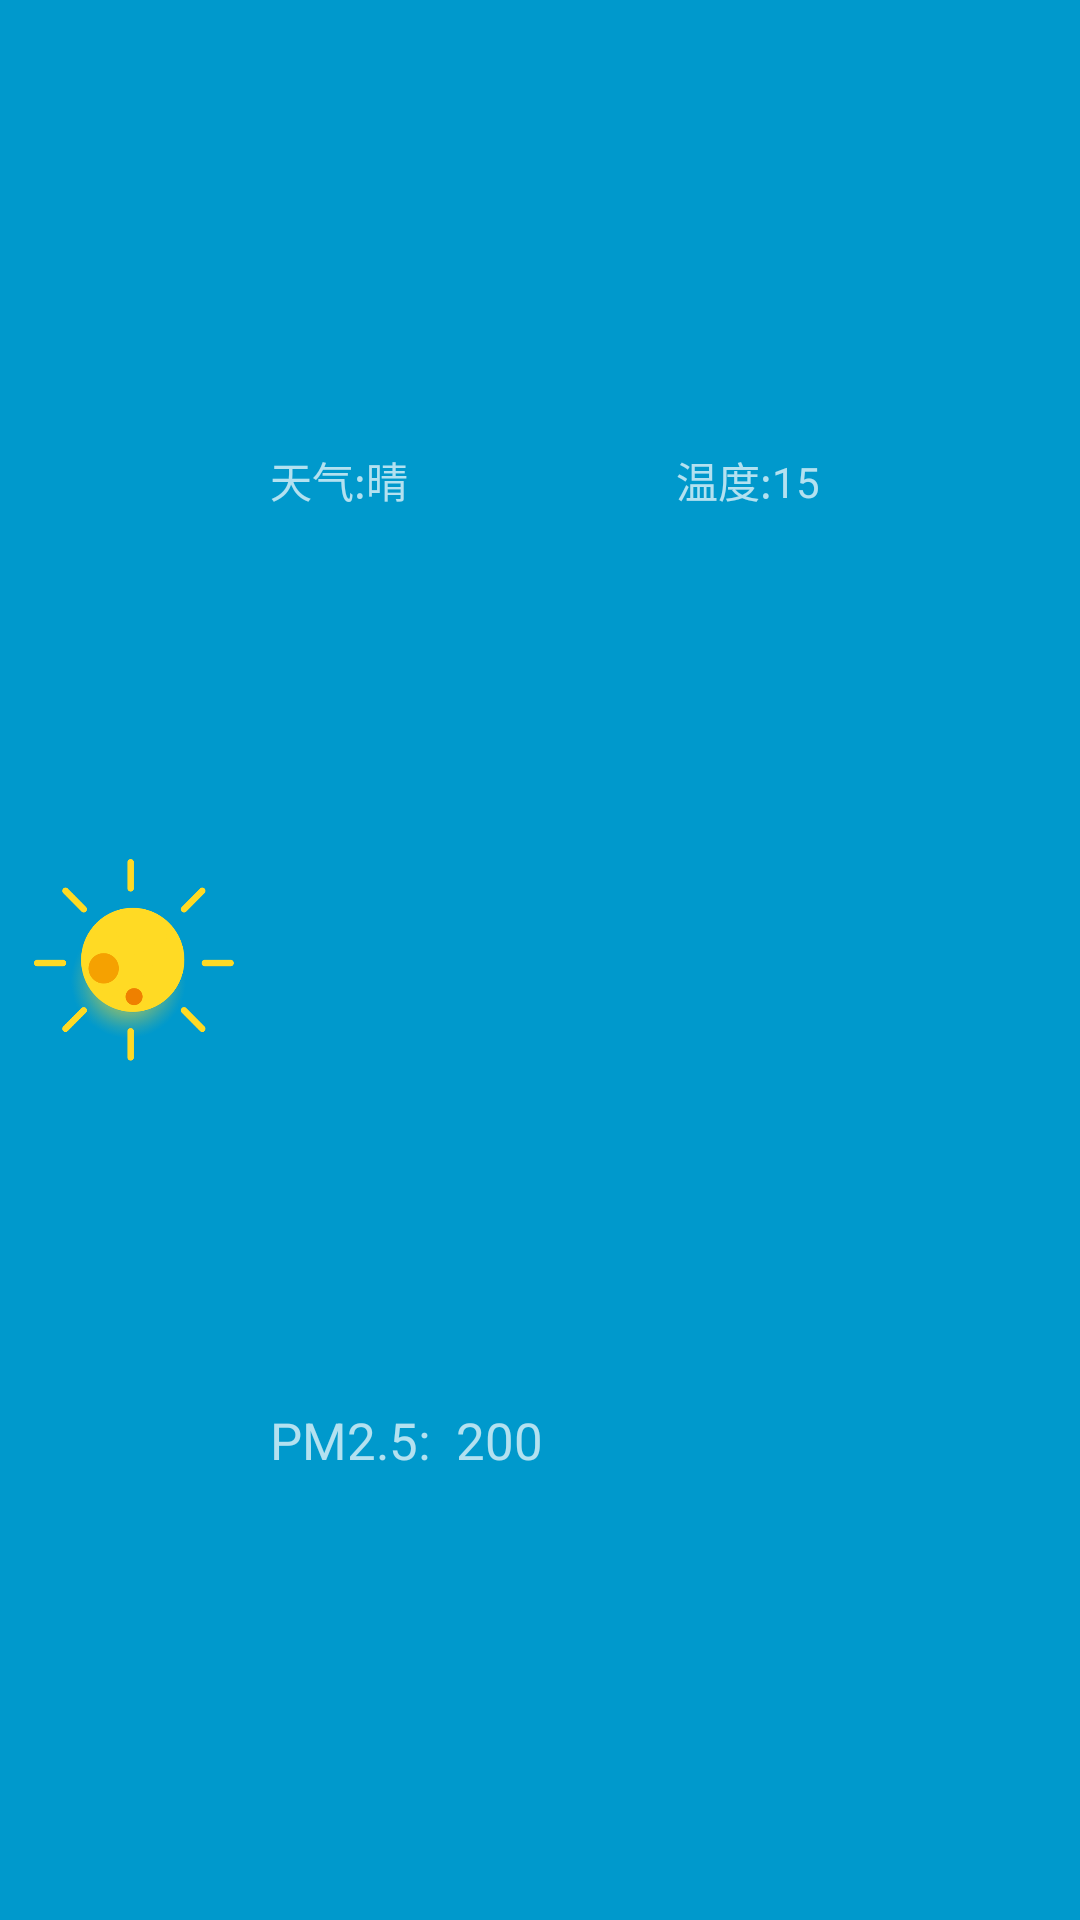

Named icons in this screenshot (1080w x 1920h) and their bounding boxes, BBox(x1, y1, x2, y2):
sunny day: BBox(34, 859, 234, 1061)
